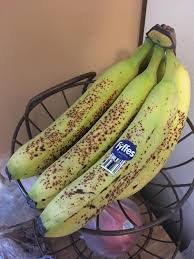banana: (3, 26, 194, 238)
